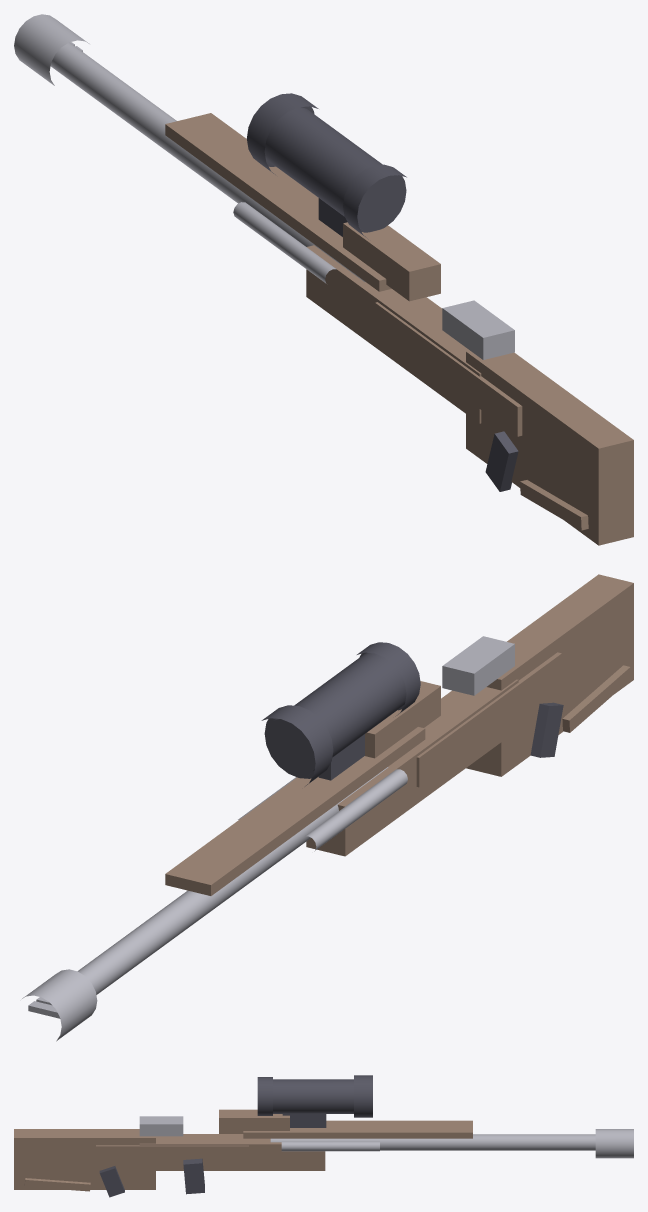
Rendered from awm.glb.
3 renders of one model, top to bottom at view 1: azimuth 30°, elevation 25°; view 2: azimuth 150°, elevation 25°; view 3: azimuth 270°, elevation 25°, orthographic. The views are drawn at different scales.
Visible parts, largest first — view 1: awm_wood, awm_metal, awm_dark; view 2: awm_wood, awm_metal, awm_dark; view 3: awm_wood, awm_metal, awm_dark.
Part boxes in pixels (left/top/right/bottom): awm_wood: left=165, top=113, right=633, bottom=545; awm_metal: left=14, top=14, right=514, bottom=359; awm_dark: left=246, top=93, right=518, bottom=491; awm_wood: left=165, top=574, right=633, bottom=895; awm_metal: left=22, top=636, right=514, bottom=1041; awm_dark: left=261, top=642, right=563, bottom=786; awm_wood: left=14, top=1109, right=472, bottom=1191; awm_metal: left=139, top=1116, right=633, bottom=1158; awm_dark: left=99, top=1075, right=372, bottom=1197.
Size of the model in its own units: 0.094 by 0.2286 by 1.13.
